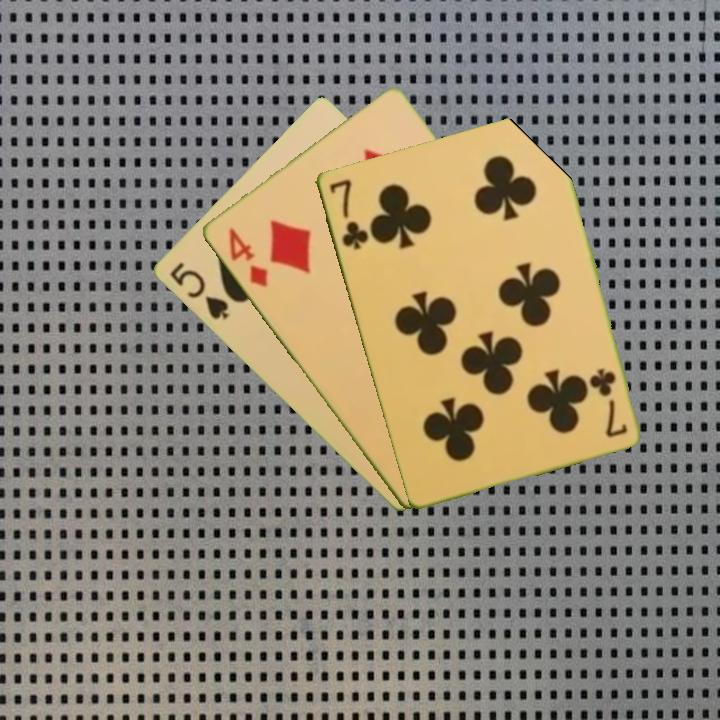4d: (224, 224, 271, 290)
5s: (165, 258, 231, 323)
7c: (325, 175, 371, 253), (589, 364, 630, 440)
